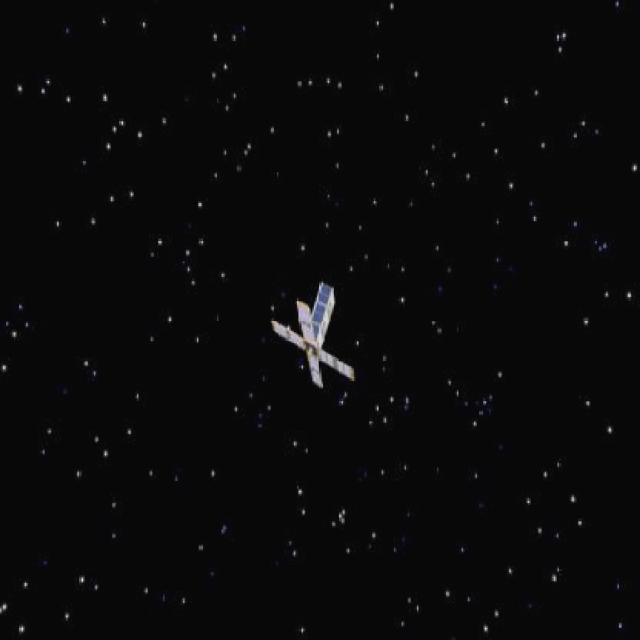medium_debris: (263, 269, 363, 396)
